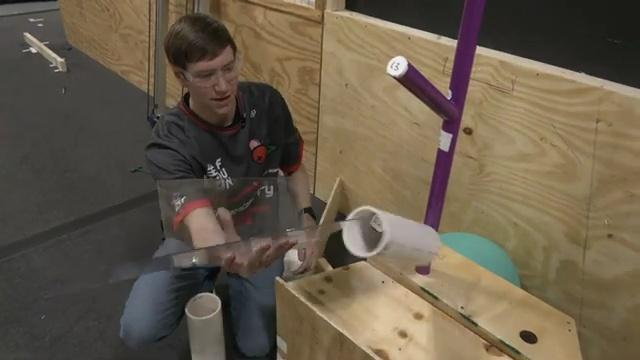CORAL: (339, 203, 441, 274), (185, 292, 226, 360)
